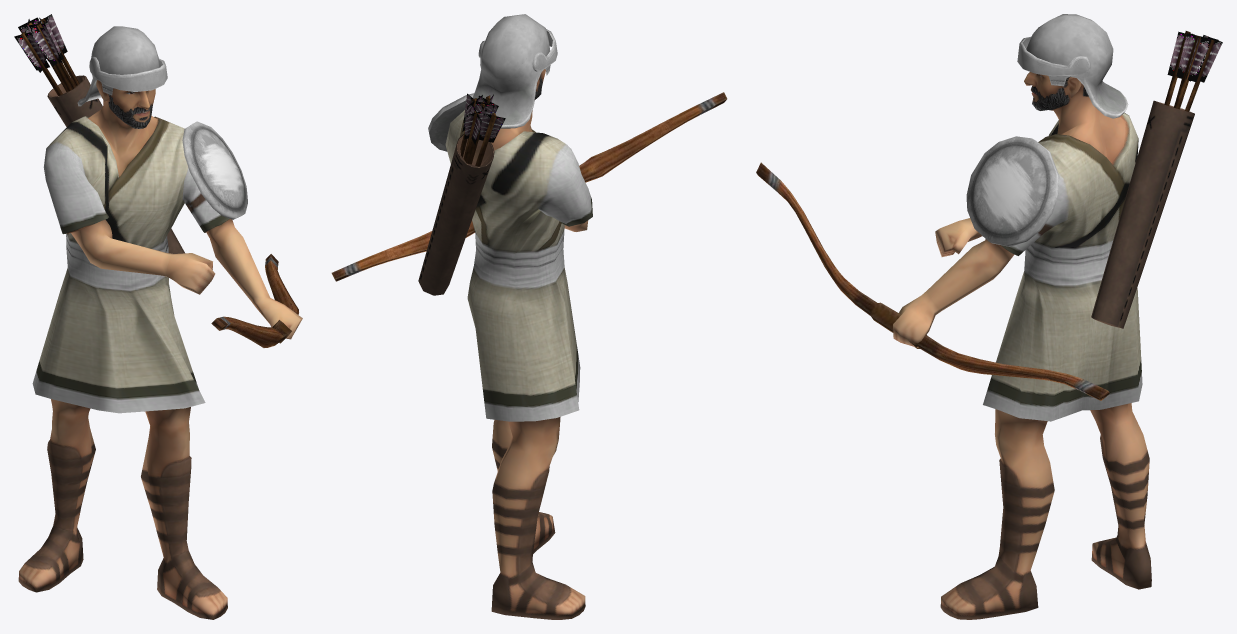
File: 25-arcus.glb
The picture shows the model from 3 angles, left to right: view 1: azimuth 30°, elevation 25°; view 2: azimuth 150°, elevation 25°; view 3: azimuth 270°, elevation 25°; orthographic projection. The views are drawn at different scales.
Size of the model in its own units: 1 by 2.12 by 1.55.
Materials: 4 (4 with a texture image).
